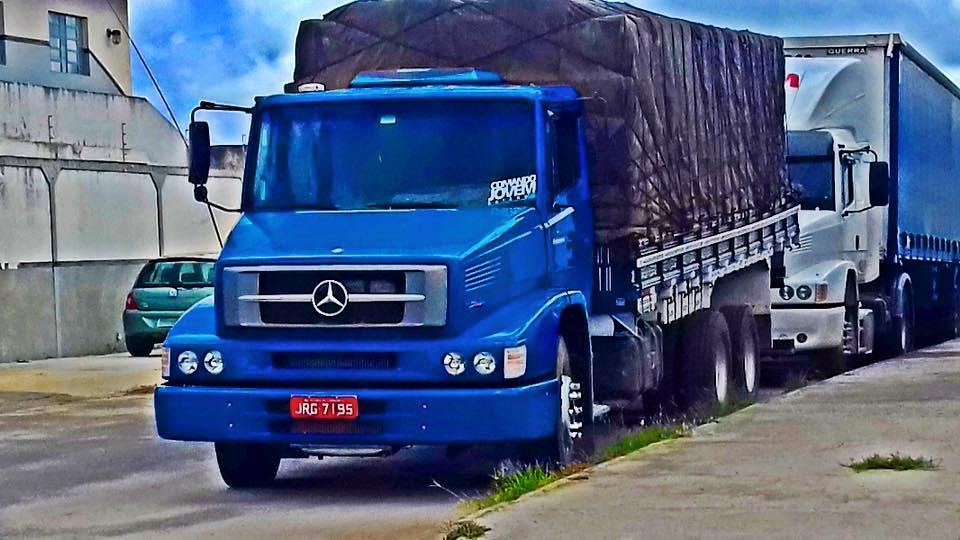placa de veiculo: (270, 388, 375, 438)
